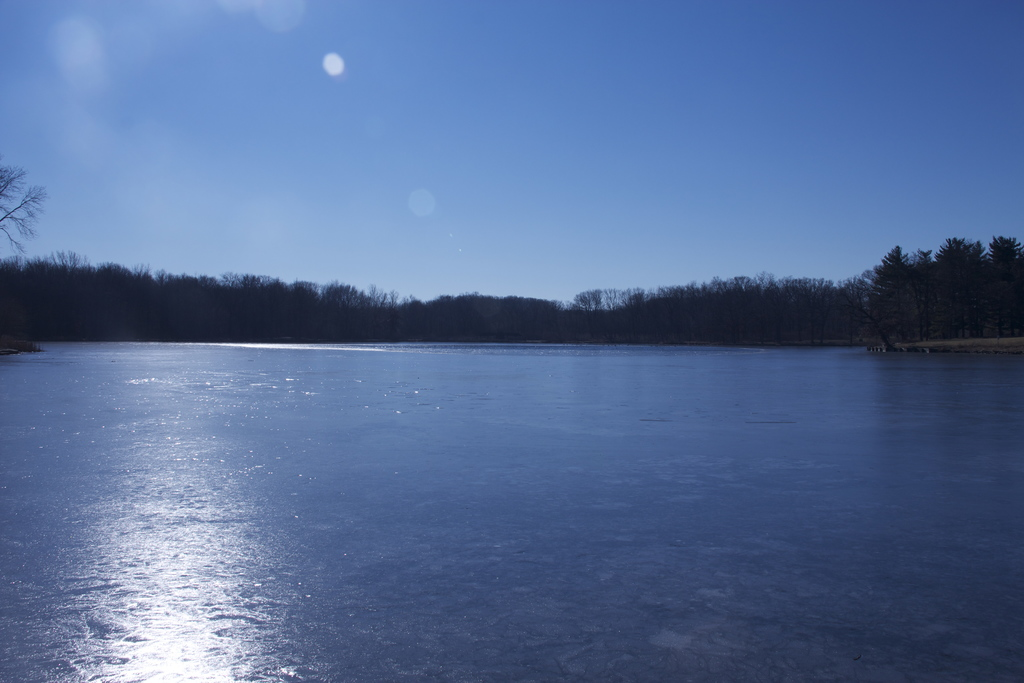Tree: (7, 256, 392, 343), (828, 231, 1023, 351), (571, 272, 837, 359), (396, 293, 571, 348), (0, 160, 46, 245)
